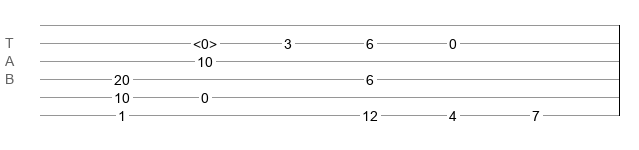0: (201, 90, 209, 100), (449, 36, 457, 46)
1: (118, 108, 126, 118)
10: (114, 90, 130, 100), (197, 54, 213, 64)
12: (362, 108, 378, 118)
20: (114, 72, 130, 82)
3: (284, 36, 292, 46)
4: (449, 108, 457, 118)
6: (366, 36, 374, 46), (366, 72, 374, 82)
7: (532, 108, 540, 118)
harmonic: (193, 36, 217, 46)
